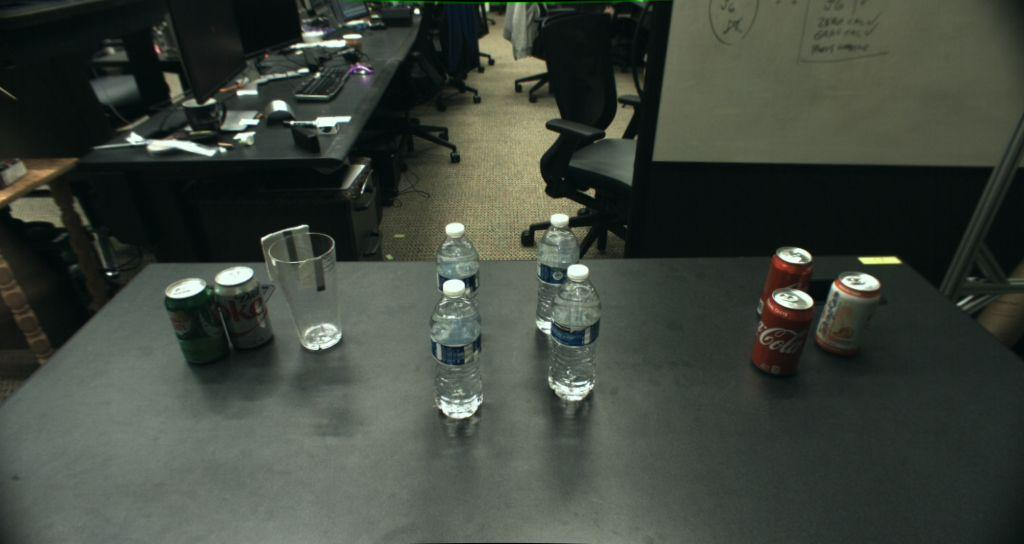can_coke: (750, 289, 814, 376)
can_diet_coke: (212, 265, 275, 353)
can_ginger_ale: (166, 278, 230, 366)
can_talking_rain_peach_nectarine: (812, 269, 880, 356)
water_bottle: (547, 264, 602, 400), (430, 279, 482, 419), (535, 213, 580, 337)
